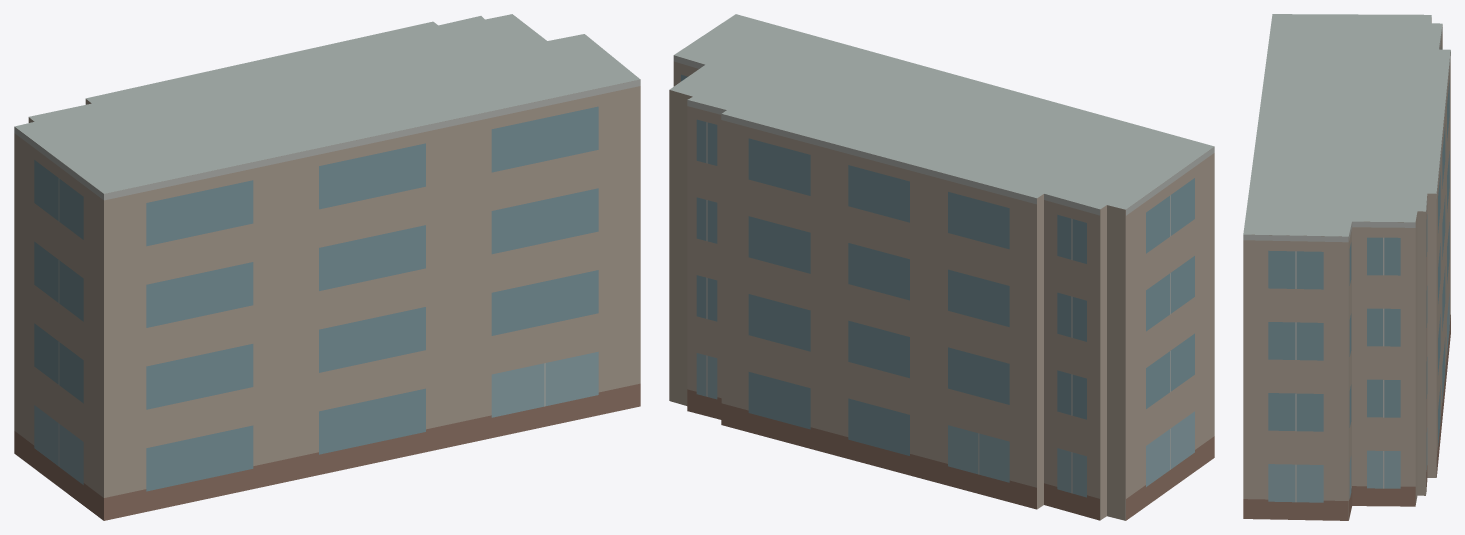
File: survey-upis-32656654.glb
3 renders of one model, left to right at view 1: azimuth 30°, elevation 25°; view 2: azimuth 150°, elevation 25°; view 3: azimuth 270°, elevation 25°, orthographic. The views are drawn at different scales.
Visible parts, largest first — view 1: survey-upis-32656654.tmp; view 2: survey-upis-32656654.tmp; view 3: survey-upis-32656654.tmp.
Boxes of the visible parts, left/top/right/bottom form: survey-upis-32656654.tmp: left=14, top=14, right=640, bottom=520; survey-upis-32656654.tmp: left=669, top=14, right=1214, bottom=520; survey-upis-32656654.tmp: left=1243, top=14, right=1450, bottom=520.
Bounding box in the file's own units: 20.49 × 12.2 × 8.08.
